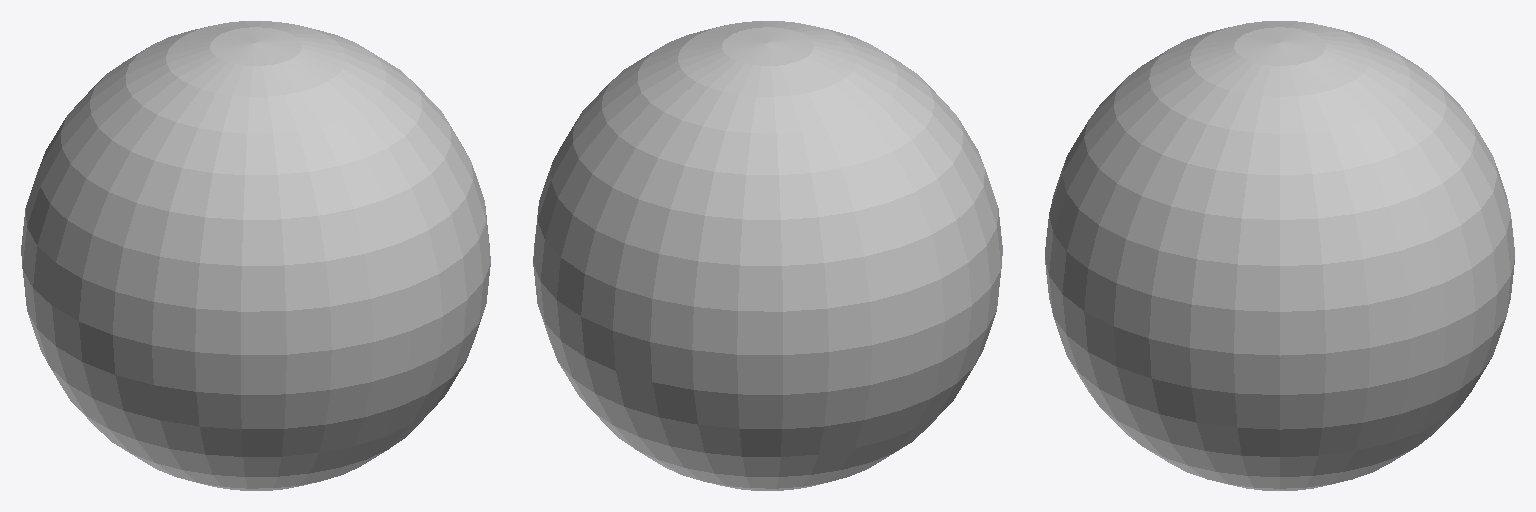
The model's file is cornell3_sphere2_01.obj.
3 renders of one model, left to right at view 1: azimuth 30°, elevation 25°; view 2: azimuth 150°, elevation 25°; view 3: azimuth 270°, elevation 25°, orthographic.
Parts seen in each view (by area): view 1: Sphere; view 2: Sphere; view 3: Sphere.
Part boxes in pixels (x1,y1,x2,y2): Sphere: (21, 21, 490, 490); Sphere: (533, 21, 1002, 490); Sphere: (1045, 21, 1514, 490).
Bounding box in the file's own units: 0.398 × 0.398 × 0.398.